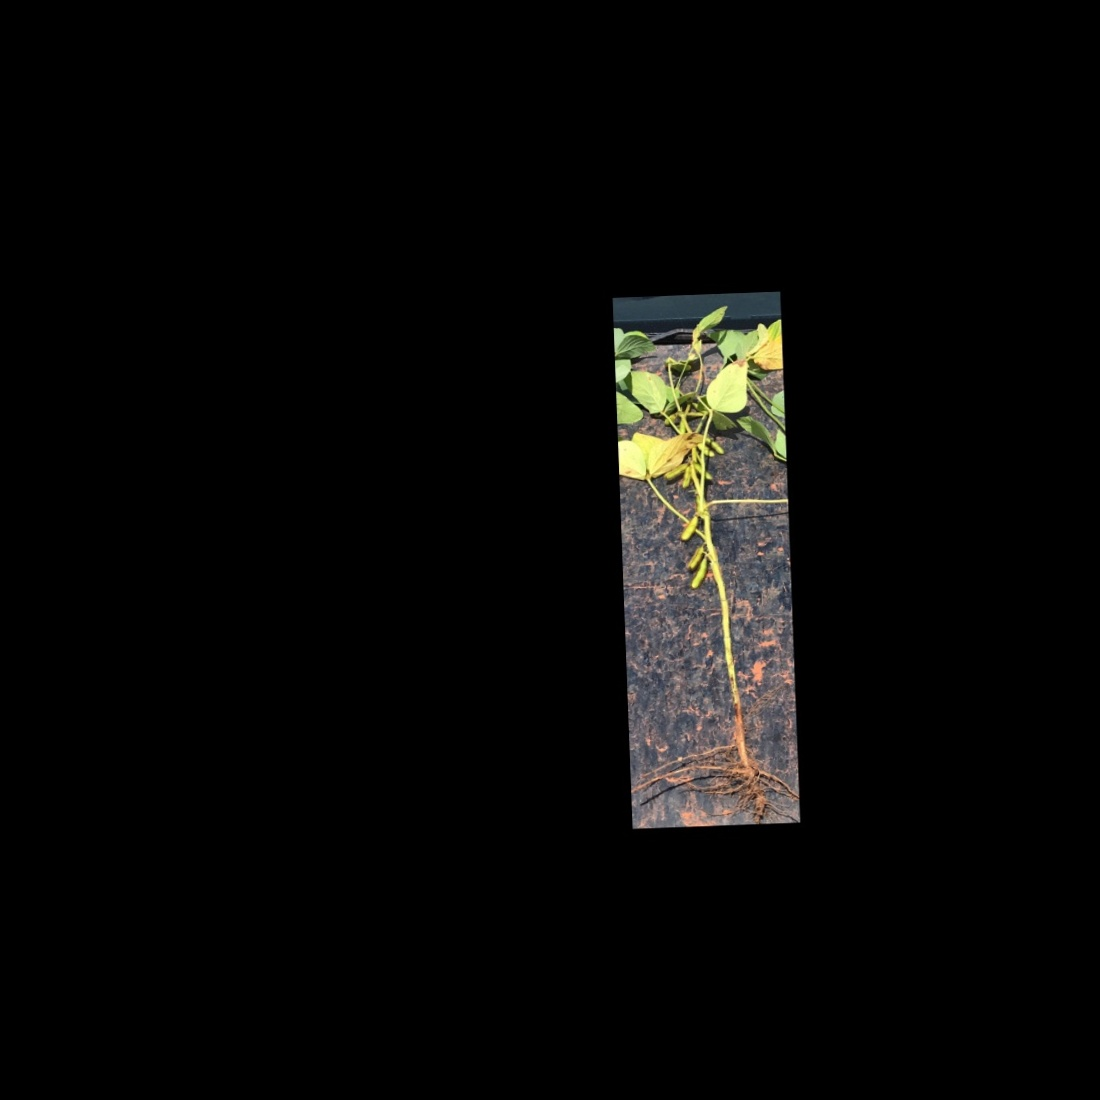pod: (687, 554, 713, 591), (677, 513, 704, 545), (684, 546, 707, 573), (703, 434, 727, 458), (693, 458, 717, 482), (693, 439, 716, 462), (660, 463, 689, 482), (660, 409, 682, 425)
soy: (618, 306, 792, 810)
